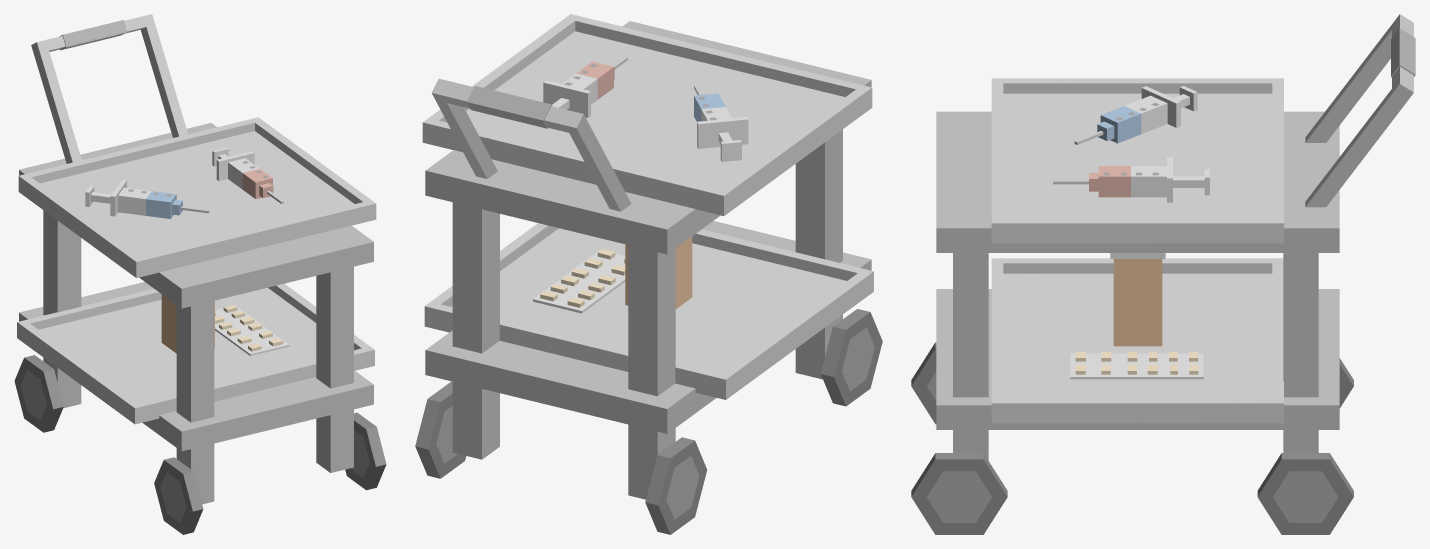
Rendered from truck_1.fbx.
3 views of the same model, side by side, from view 1: azimuth 30°, elevation 25°; view 2: azimuth 150°, elevation 25°; view 3: azimuth 270°, elevation 25° (orthographic). The views are drawn at different scales.
Parts seen in each view (by area): view 1: Cube_2; view 2: Cube_2; view 3: Cube_2.
Part boxes in pixels (x1,y1,x2,y2): Cube_2: (14, 14, 386, 534); Cube_2: (415, 14, 882, 534); Cube_2: (911, 14, 1415, 534).
Bounding box in the file's own units: 29.54 × 40.59 × 43.13.
